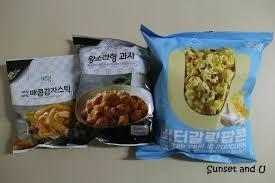snack: (135, 24, 274, 164), (71, 34, 157, 146)
